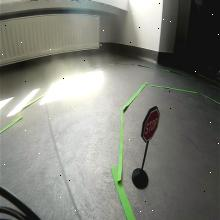stop: (141, 105, 160, 142)
